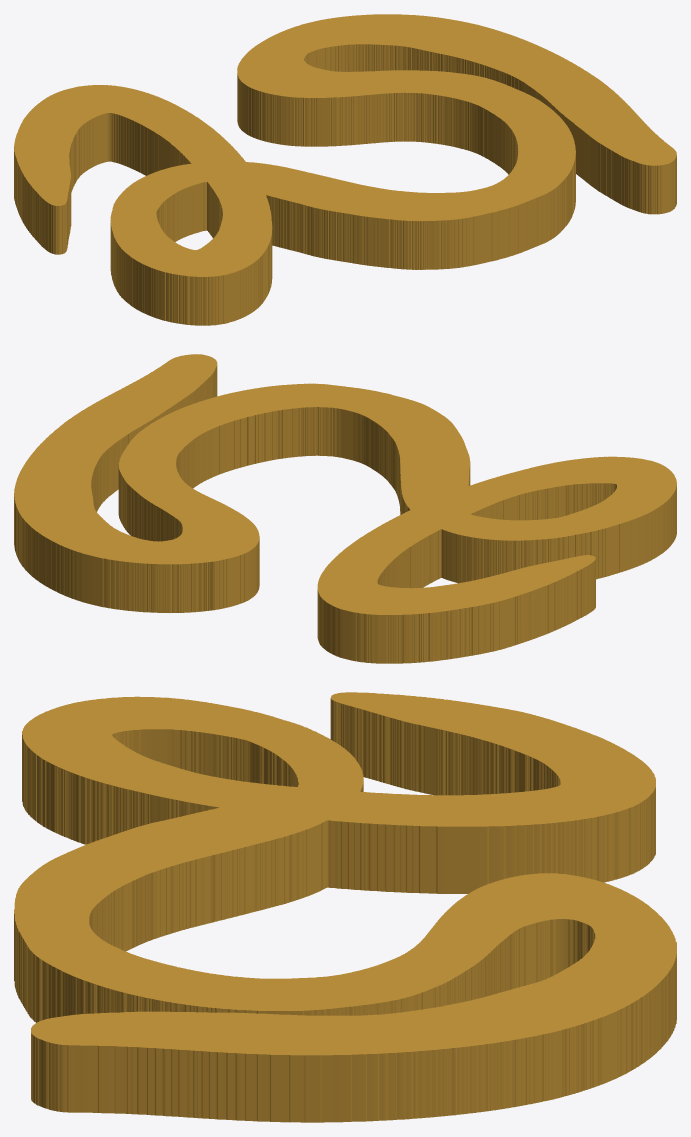
The picture shows the model from 3 angles, top to bottom: view 1: azimuth 30°, elevation 25°; view 2: azimuth 150°, elevation 25°; view 3: azimuth 270°, elevation 25°; orthographic projection. The views are drawn at different scales.
Parts seen in each view (by area): view 1: Curve.002; view 2: Curve.002; view 3: Curve.002.
Part boxes in pixels (x1=…): Curve.002: x1=14, y1=14, x2=676, y2=325; Curve.002: x1=14, y1=354, x2=676, y2=663; Curve.002: x1=14, y1=692, x2=676, y2=1122.
Bounding box in the file's own units: 98.82 × 8.53 × 76.25.
